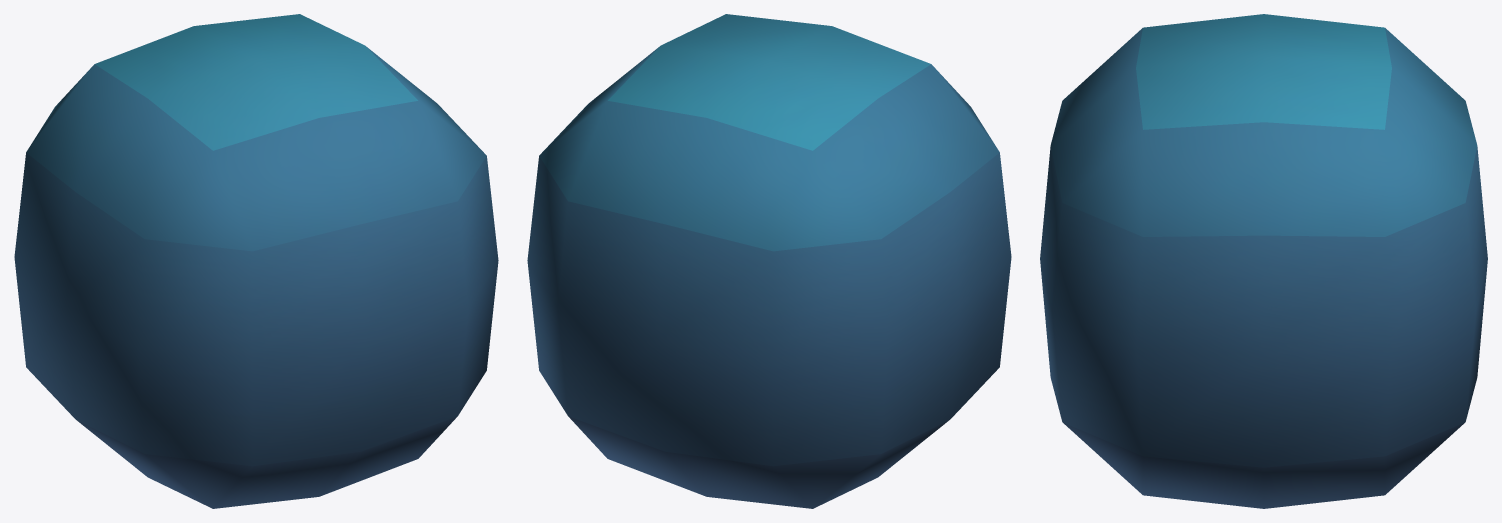
File: ball_medium_small_blue.fbx
3 renders of one model, left to right at view 1: azimuth 30°, elevation 25°; view 2: azimuth 150°, elevation 25°; view 3: azimuth 270°, elevation 25°, orthographic. The views are drawn at different scales.
Visible parts, largest first — view 1: ball_medium_small_blue; view 2: ball_medium_small_blue; view 3: ball_medium_small_blue.
Boxes of the visible parts, left/top/right/bottom form: ball_medium_small_blue: left=14, top=14, right=498, bottom=508; ball_medium_small_blue: left=527, top=14, right=1011, bottom=508; ball_medium_small_blue: left=1040, top=14, right=1487, bottom=508.
Size of the model in its own units: 55.97 by 56.34 by 55.97.
1 material, 1 textured.
